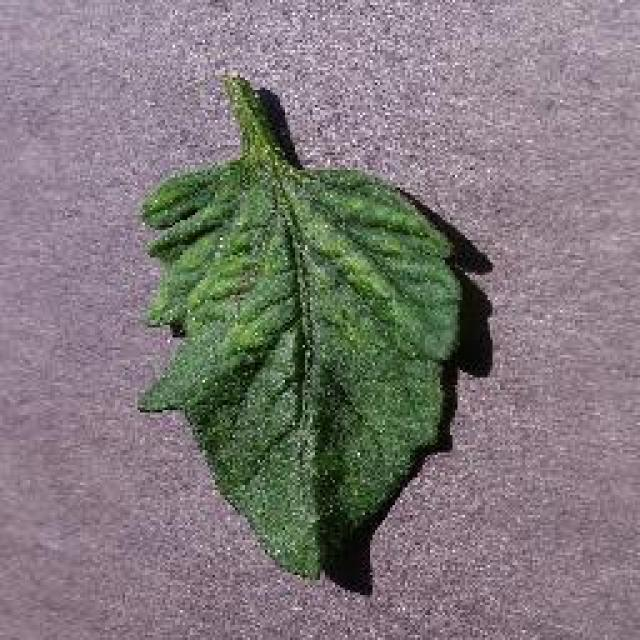Tomato___Tomato_mosaic_virus: (140, 78, 460, 575)
